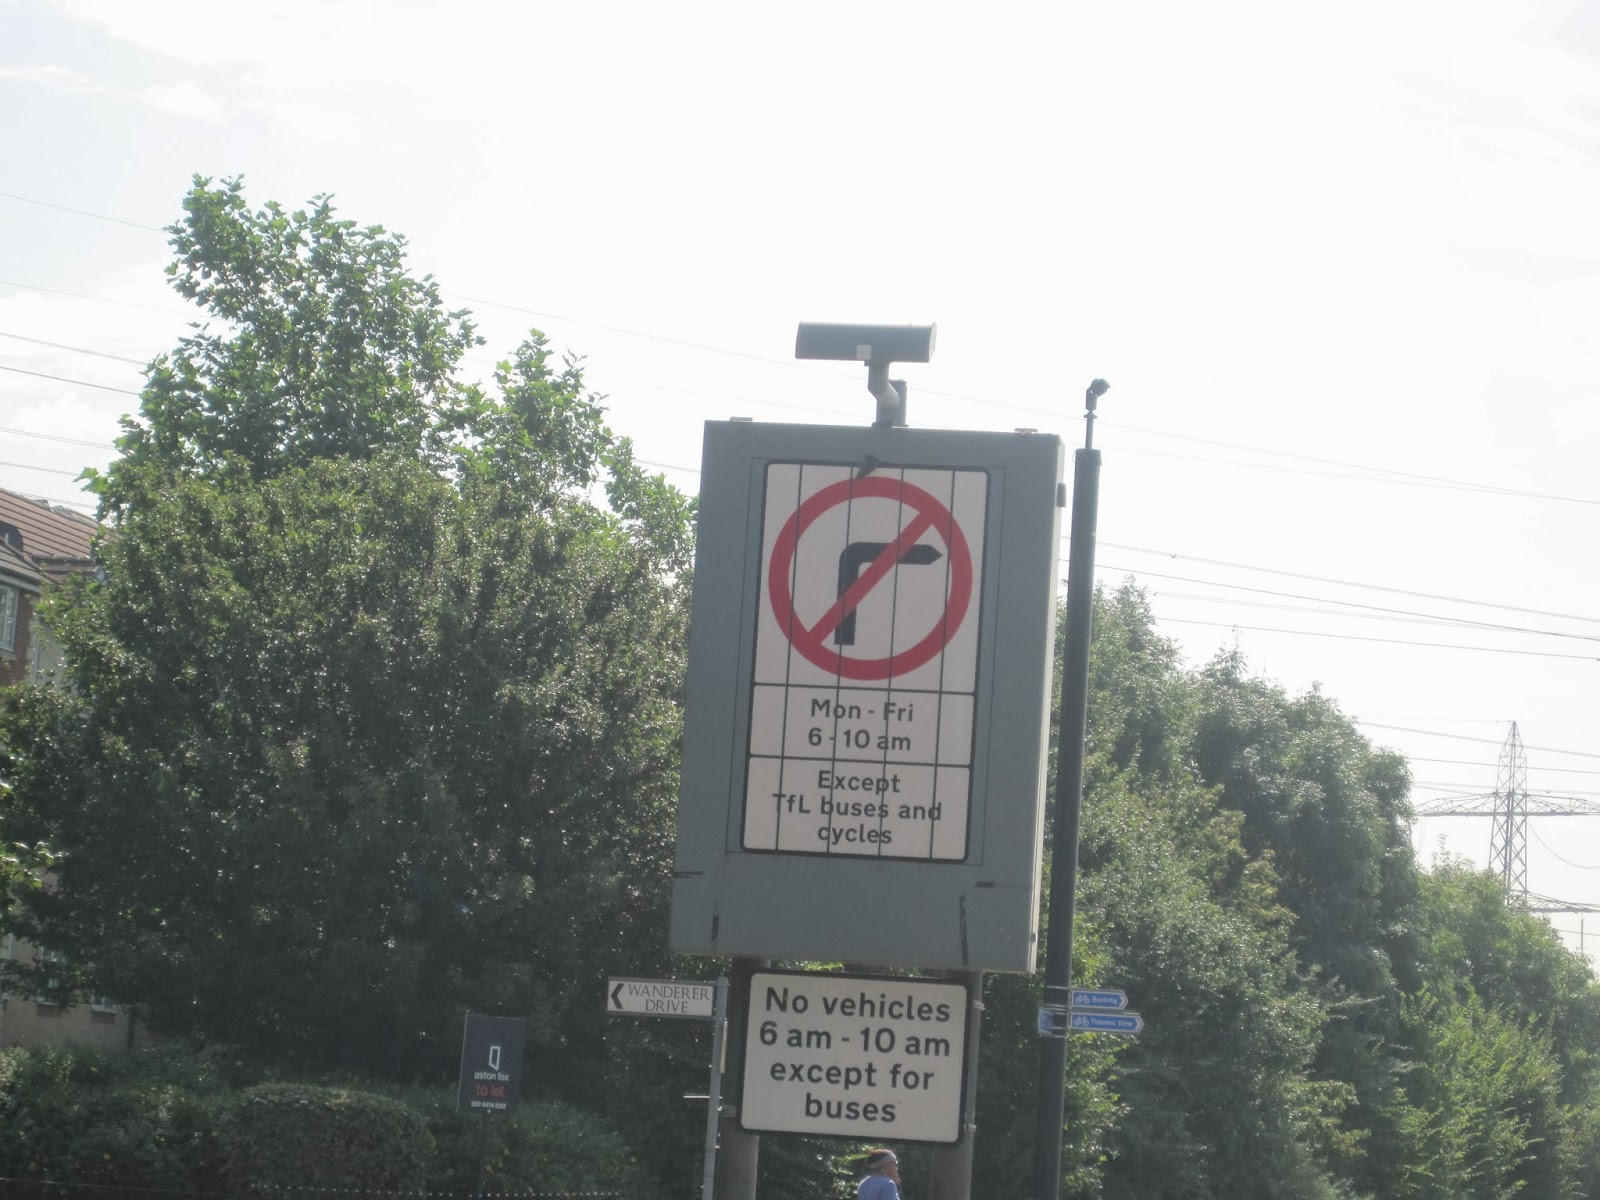No_right_turn: (769, 479, 973, 679)
